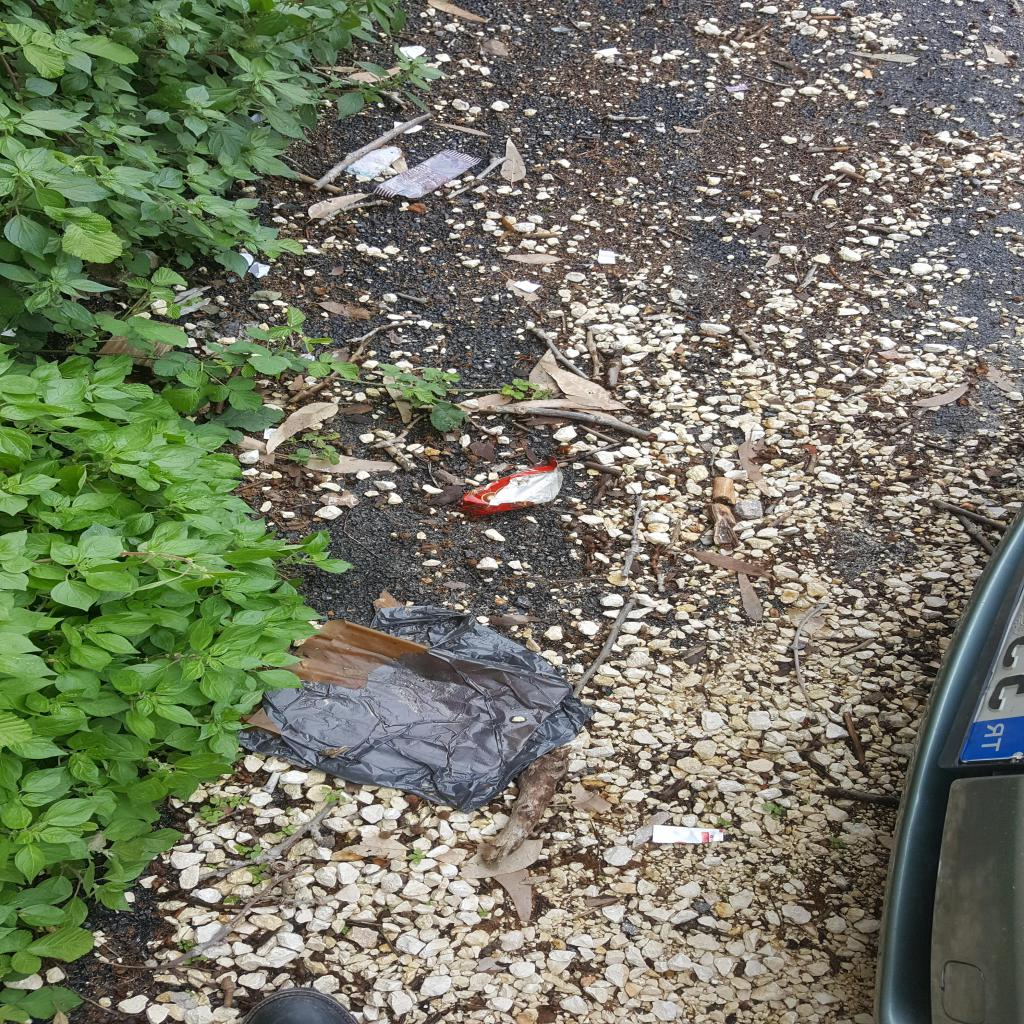Cigarette: (260, 772, 282, 794), (861, 70, 872, 80)
Garbage bag: (239, 606, 599, 814)
Other plastic: (455, 455, 563, 515), (374, 149, 482, 199), (653, 824, 723, 844), (724, 84, 750, 94), (263, 428, 276, 439)
Unlabeled litter: (250, 261, 270, 278)
